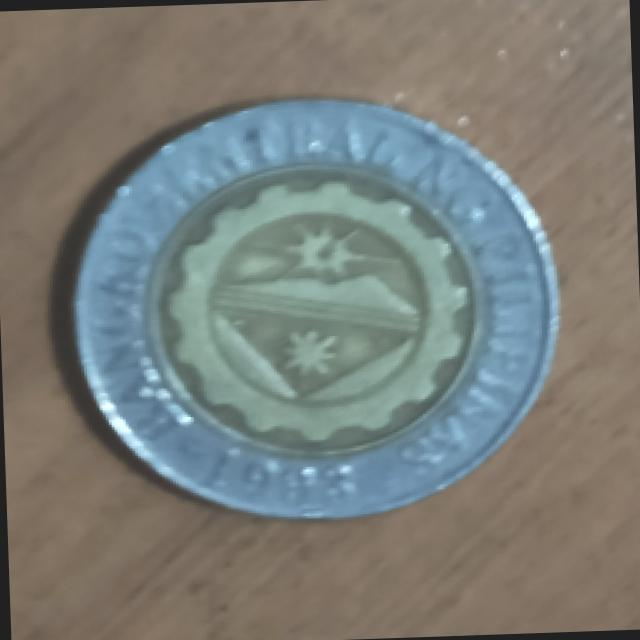10_peso: (75, 101, 556, 516)
